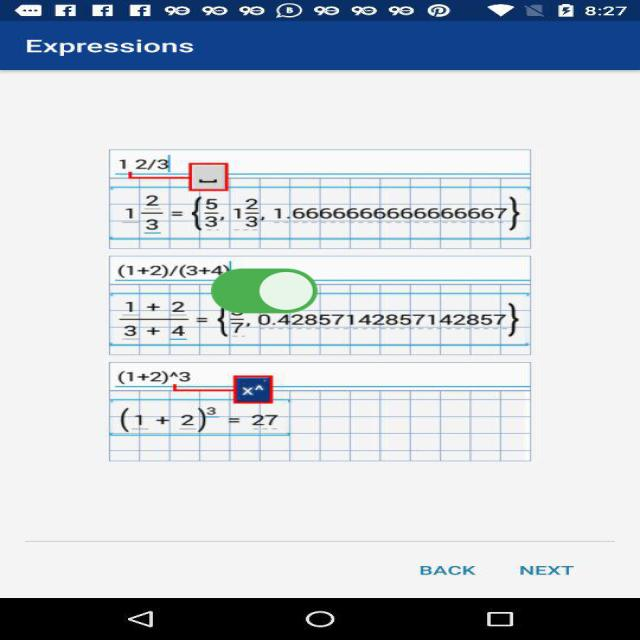social proof: (206, 251, 322, 334)
